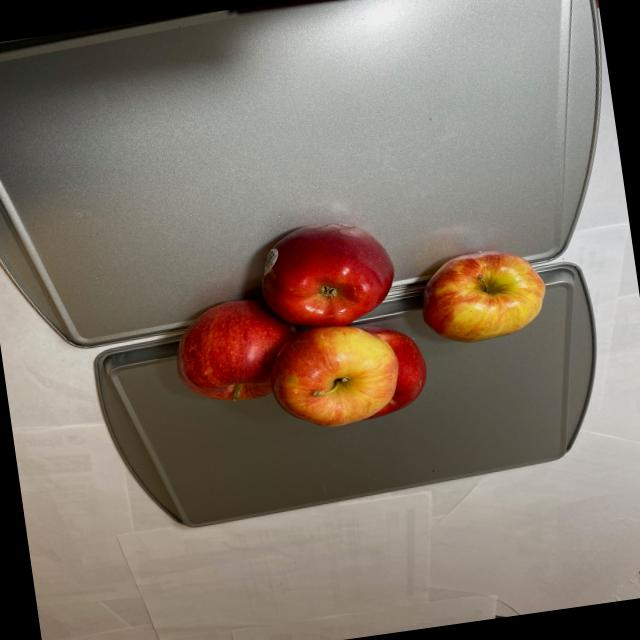apple: (155, 195, 558, 448)
